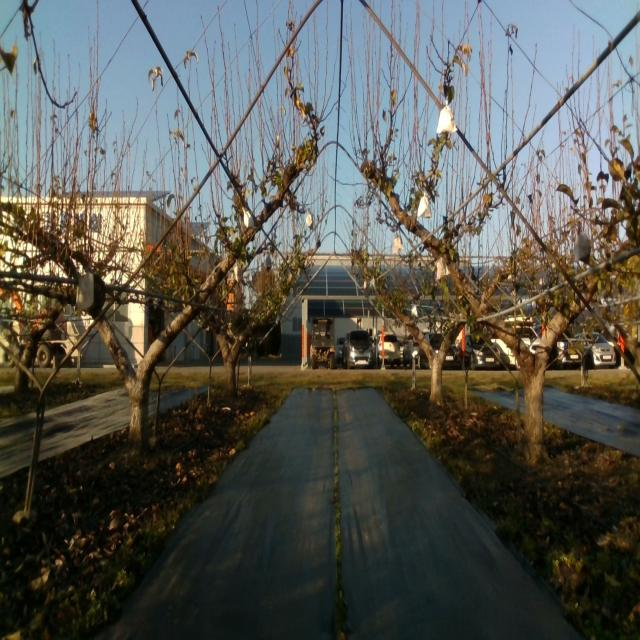pearbags: (436, 99, 458, 135), (574, 220, 591, 265), (417, 191, 432, 218), (436, 256, 451, 282)
